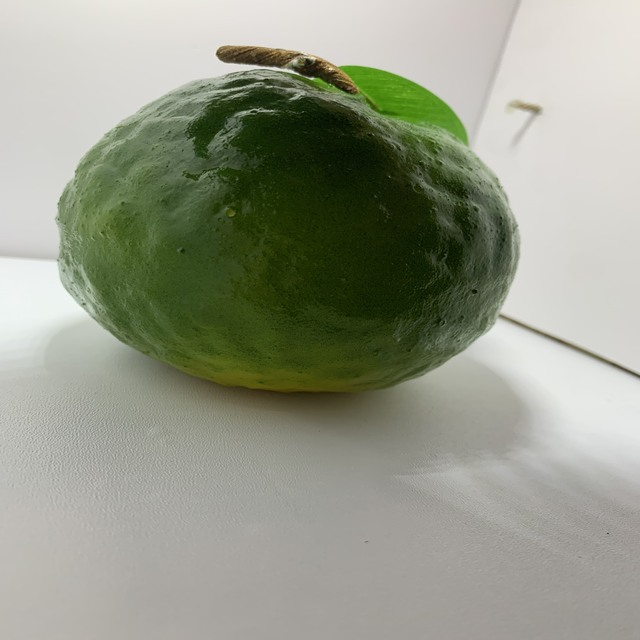Cam xanh: (44, 50, 528, 408)
